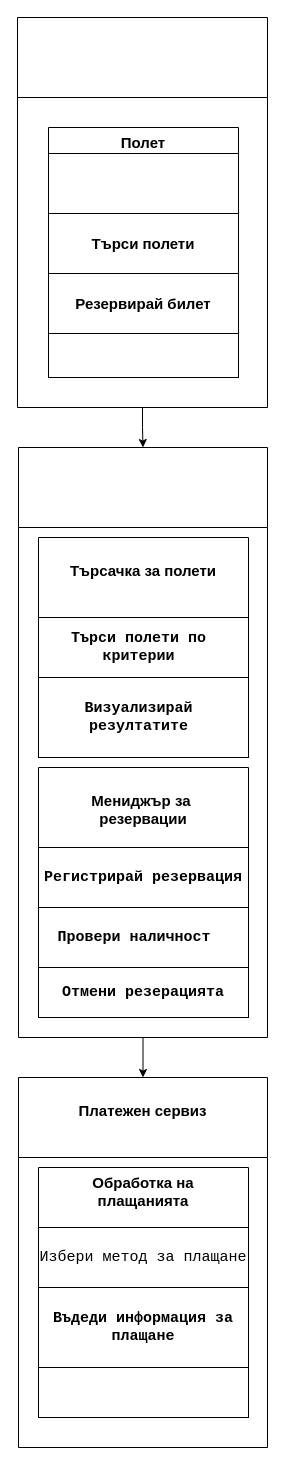
Some shapes in this 285 by 1465 pixel diagram are drawn without their labels. The box of each missing label's shape, as (x1, y1, x2, y2) in pixels:
Избери дестинция: (48, 152, 238, 214)
Извърши плащането: (38, 1366, 248, 1418)
Онлайн система за самолетни билети: (16, 16, 268, 408)
Плати: (48, 332, 238, 378)
Система за самолетни билети: (18, 446, 268, 1038)
